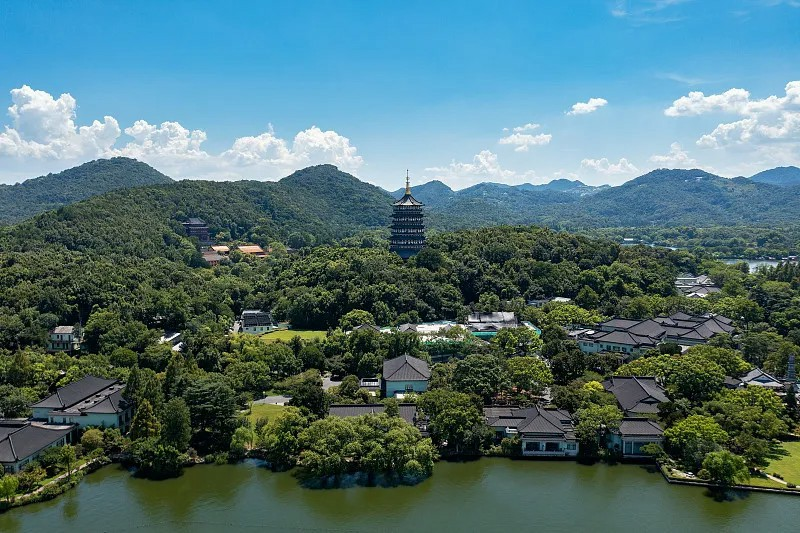Leifeng: (388, 167, 427, 262)
